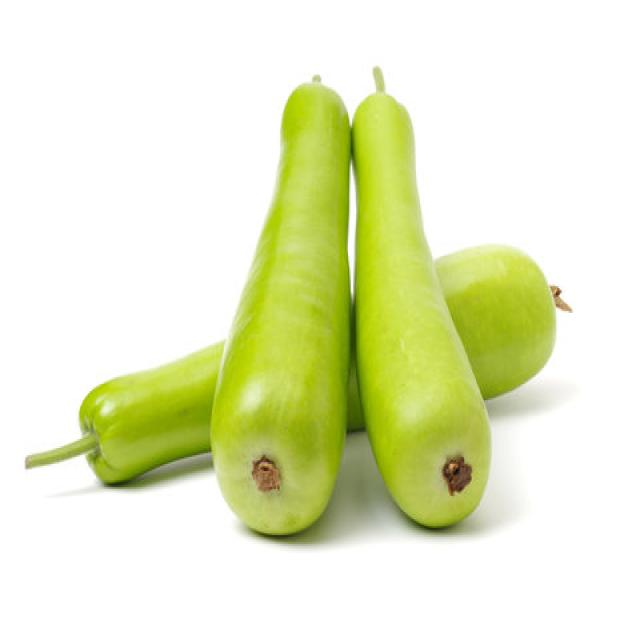Bottle Gourd: (208, 73, 352, 535), (349, 64, 491, 528), (24, 336, 225, 485), (432, 242, 571, 400)
